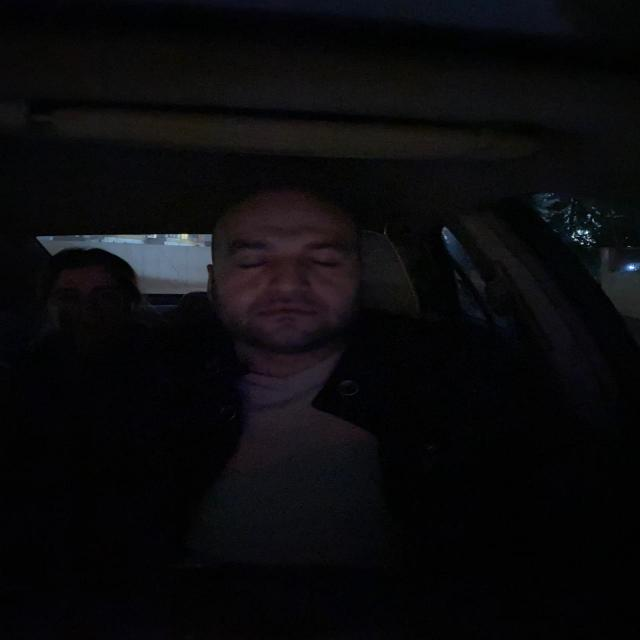drowsy: (204, 185, 380, 355)
